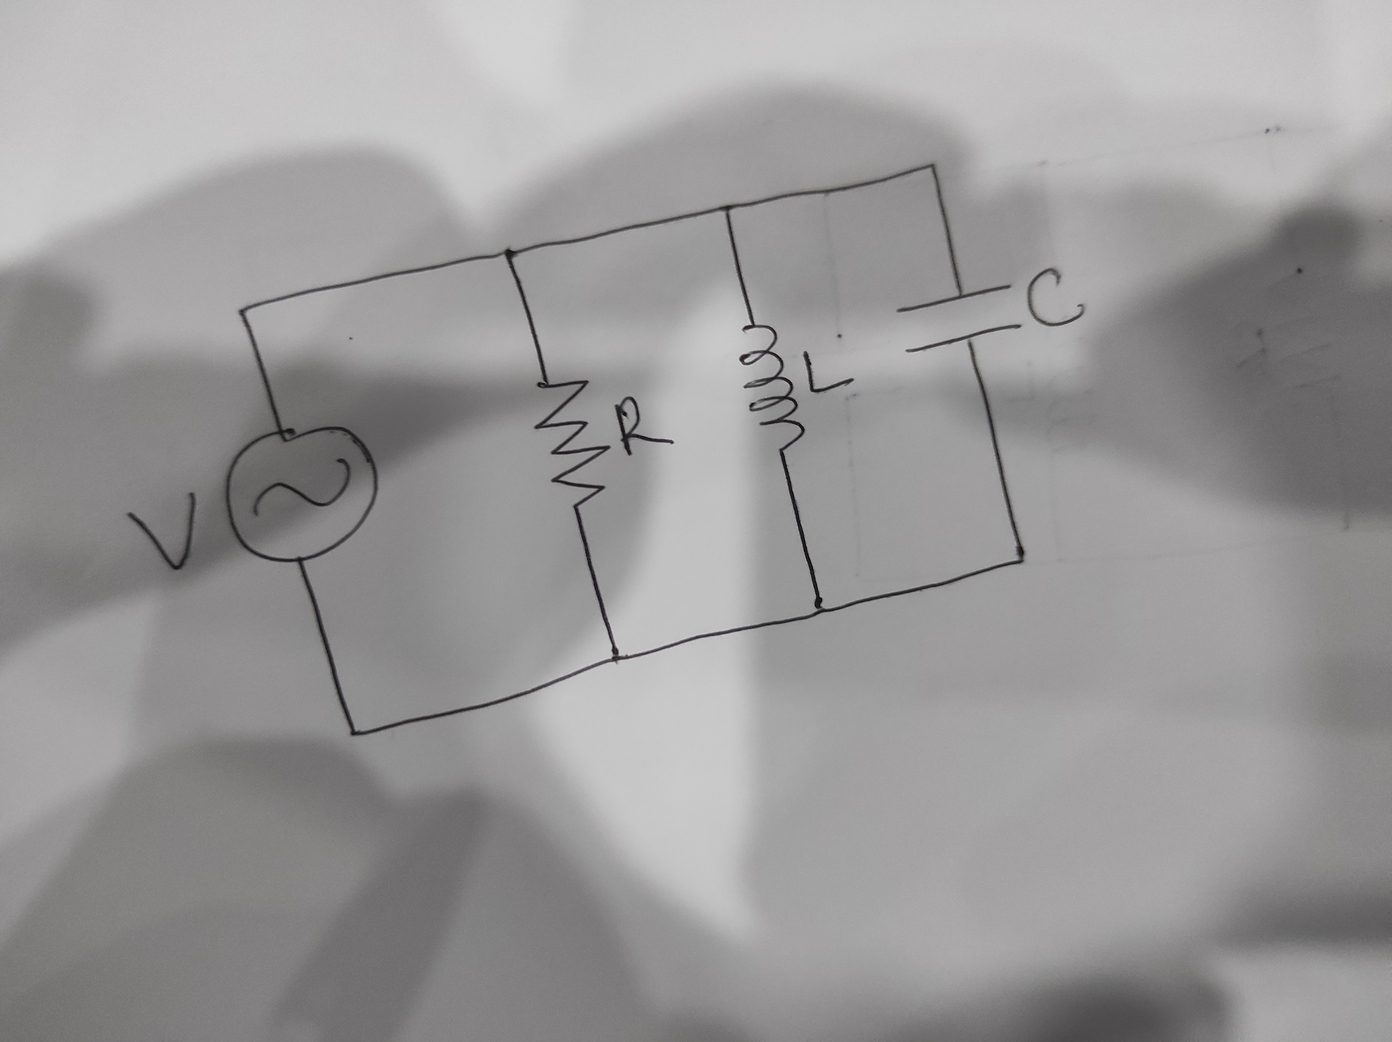capacitor.unpolarized: (892, 281, 1024, 357)
inductor: (734, 322, 807, 454)
junction: (594, 637, 636, 681), (807, 594, 835, 623), (1009, 542, 1035, 571), (341, 721, 367, 745), (494, 245, 523, 265), (716, 195, 740, 219), (234, 300, 257, 325), (920, 157, 944, 180)
resistor: (530, 375, 613, 511)
text: (123, 487, 204, 574), (613, 394, 676, 458), (1024, 266, 1089, 328), (800, 346, 857, 396)
voltage.dc_ac: (217, 422, 382, 565)
